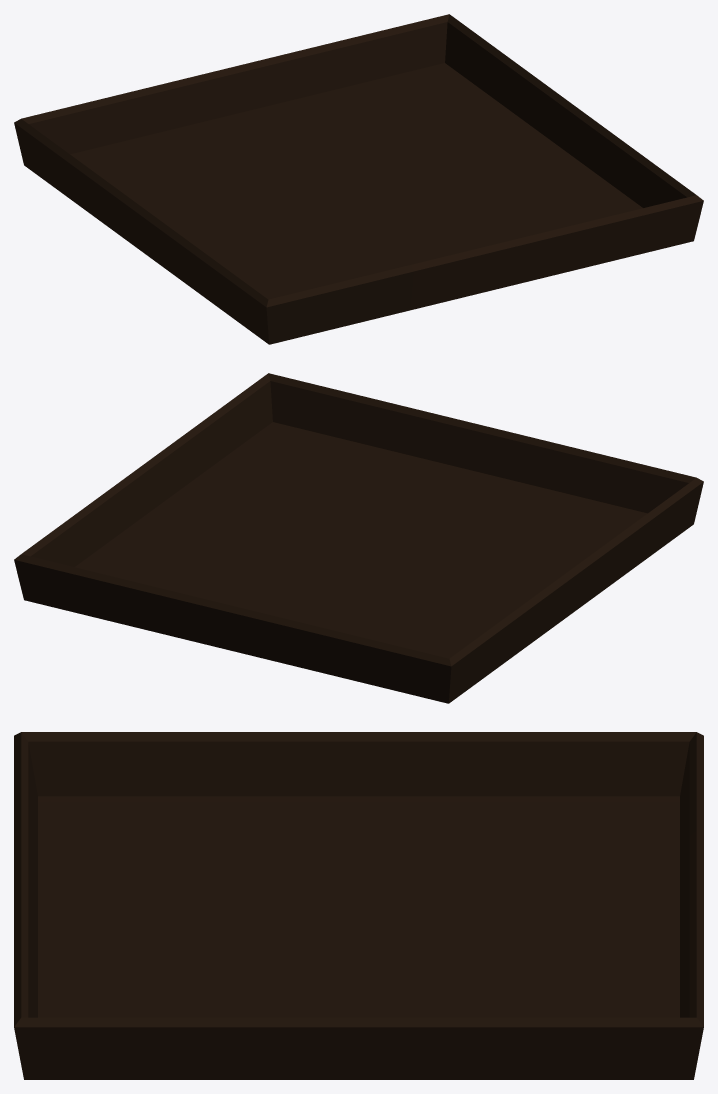
The model's file is Basket_Square_Large.glb.
The picture shows the model from 3 angles, top to bottom: view 1: azimuth 30°, elevation 25°; view 2: azimuth 150°, elevation 25°; view 3: azimuth 270°, elevation 25°; orthographic projection. The views are drawn at different scales.
Parts seen in each view (by area): view 1: Basket_Square_Large; view 2: Basket_Square_Large; view 3: Basket_Square_Large.
Part boxes in pixels (left/top/right/bottom): Basket_Square_Large: left=14, top=14, right=703, bottom=344; Basket_Square_Large: left=14, top=373, right=703, bottom=703; Basket_Square_Large: left=14, top=732, right=703, bottom=1079.
Size of the model in its own units: 0.9888 by 0.1002 by 0.9888.
1 material, 1 textured.
